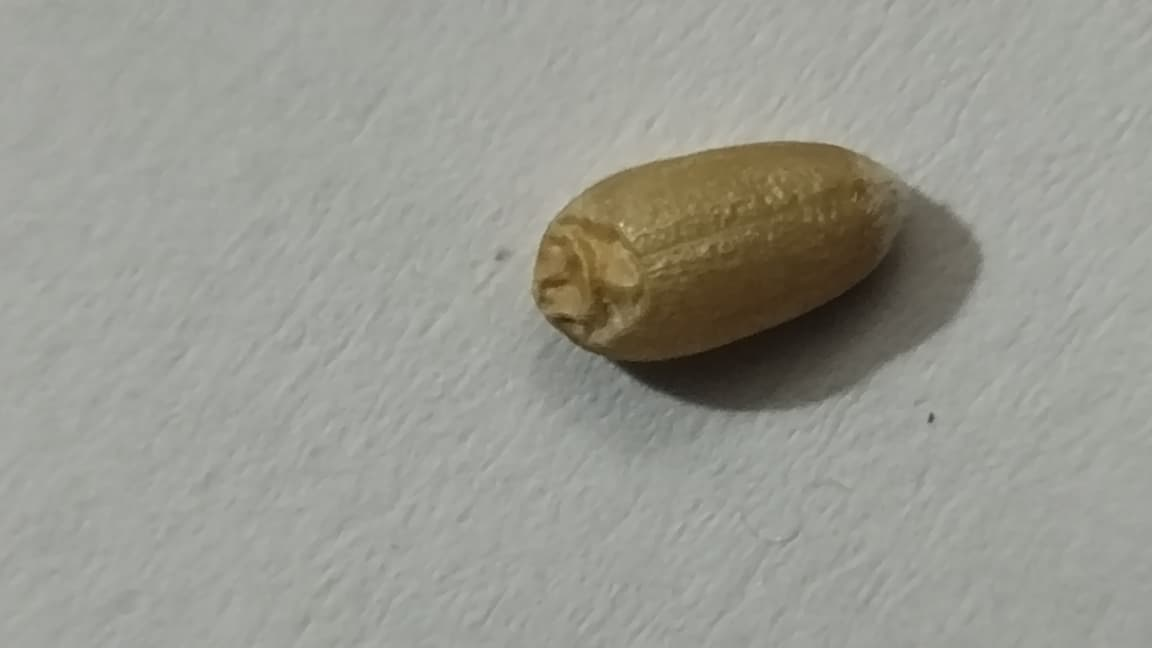healthy: (532, 143, 910, 361)
